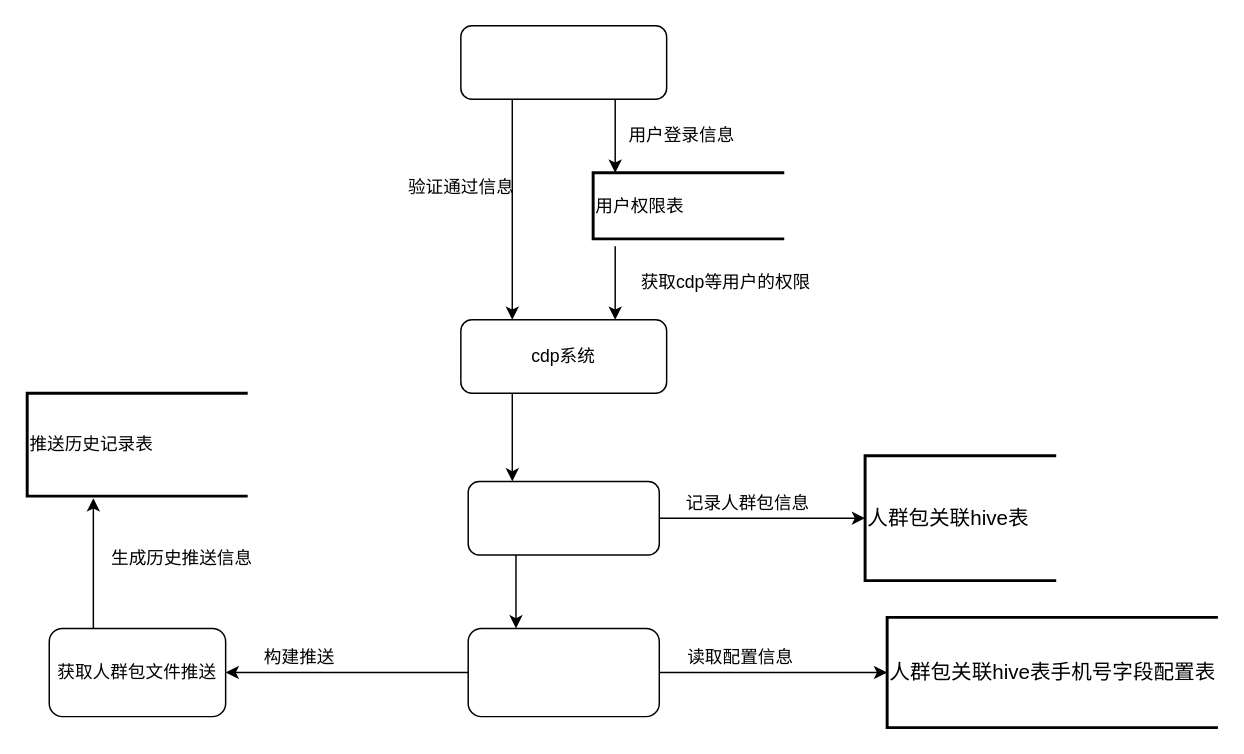
This 1244x754 diagram has some shape labels left out. Each missing label, with the centre of its shape:
"人群创建修改" belongs at [563,517].
"推送人群包至QA" belongs at [563,672].
"用户验证系统" belongs at [563,61].
